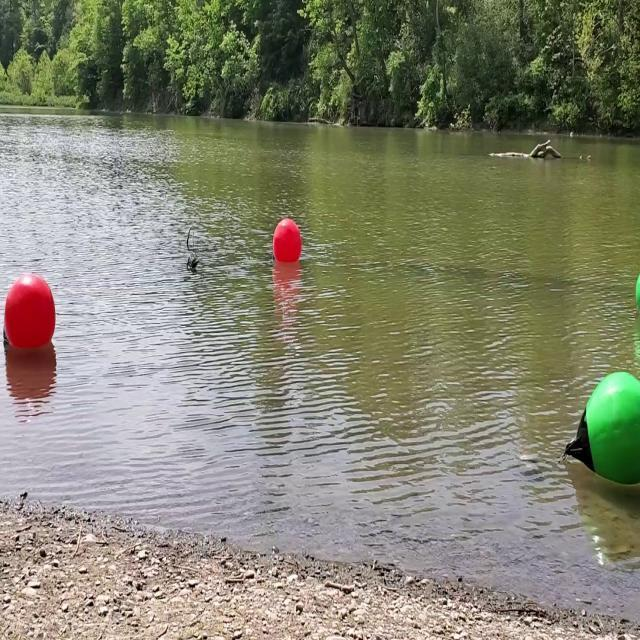buoy: (564, 372, 640, 486), (4, 273, 54, 347), (272, 218, 300, 264), (635, 270, 640, 312)
